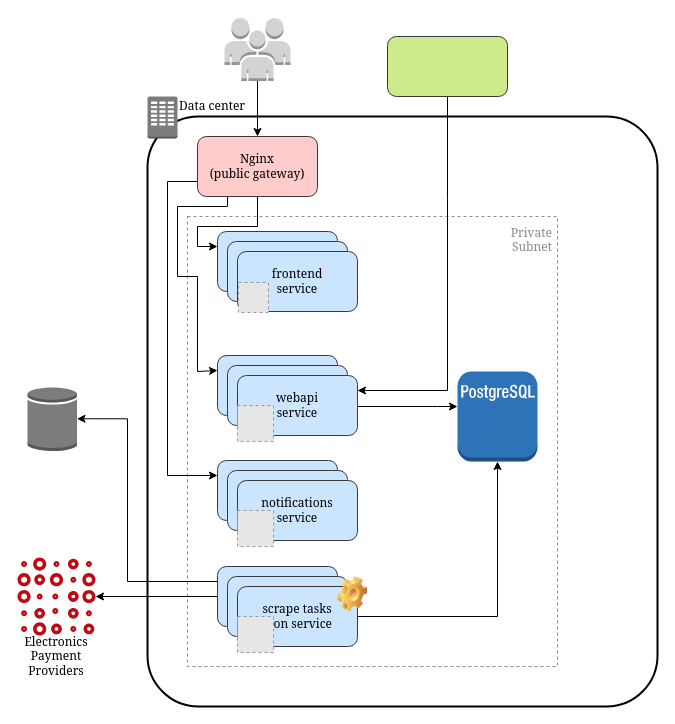
This 675x724 diagram has some shape labels left out. Grey dashed boxes stand in for pictures. The centre of each missing label's shape, as x and y in pixels:
AuthN & AuthZ Provider: the point at 447,66
UA public database: the point at 51,418
users: the point at 257,49
